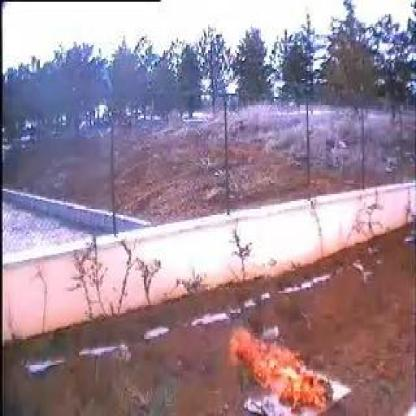-: (248, 318, 263, 325)
foggia-v2-map80-epoch100 - v1 4323: (228, 329, 331, 409)
